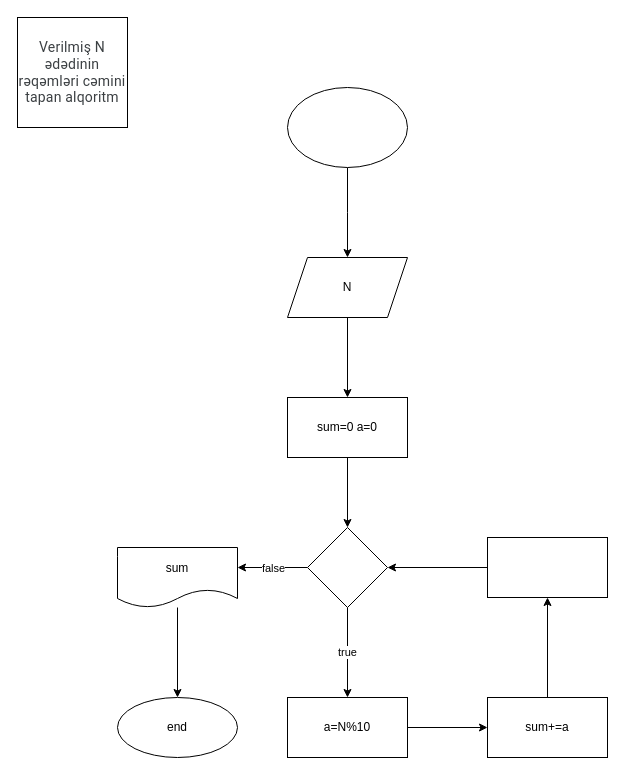
This 625x775 diagram has some shape labels left out. Here are the shapes that lost their labels. From the top down, the box of each, then its label:
(286, 86, 408, 168): start
(306, 526, 388, 608): N>0
(486, 536, 608, 598): N=(N-a)/10
